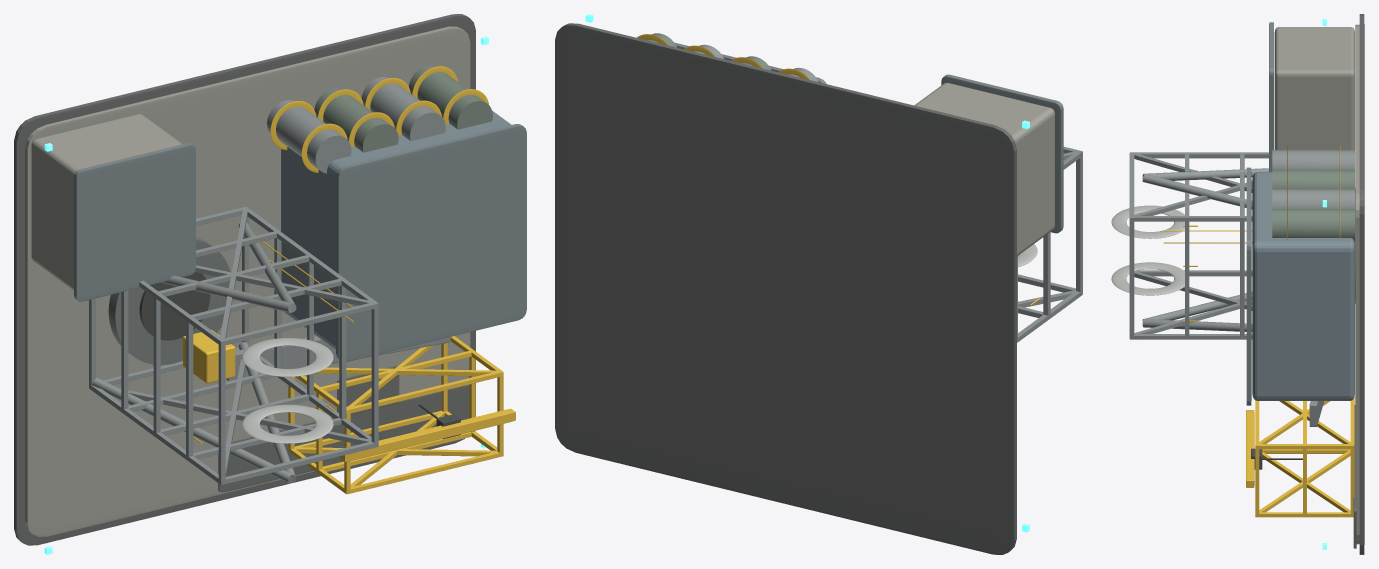
File: b-51-ore-mine-lod1.glb
The picture shows the model from 3 angles, left to right: view 1: azimuth 30°, elevation 25°; view 2: azimuth 150°, elevation 25°; view 3: azimuth 270°, elevation 25°; orthographic projection. The views are drawn at different scales.
Parts seen in each view (by area): view 1: foundation_inner_pad, ore_processing_hall_roof, ore_winding_house_roof, foundation, ore_winding_house_main_hall, ore_processing_hall_main_hall, ore_truck_lane_road, ore_shaft_collar, concentrate_bin_0_vessel, concentrate_bin_2_vessel, concentrate_bin_3_vessel, concentrate_bin_1_vessel (+40 smaller); view 2: foundation, ore_winding_house_main_hall, ore_winding_house_roof, primary_mine_headframe_beam_y_4_w, primary_mine_headframe_beam_y_3_w; view 3: ore_processing_hall_main_hall, ore_winding_house_main_hall, foundation, foundation_inner_pad, concentrate_bin_3_vessel, concentrate_bin_1_vessel, concentrate_bin_0_vessel, concentrate_bin_2_vessel, ore_processing_hall_roof, headframe_hoist_wheel_-1, headframe_hoist_wheel_1, headframe_splay_1_rear (+27 smaller).
Part boxes in pixels (box(x1,y1,x2,y2)): foundation_inner_pad: box(25, 26, 470, 536); ore_processing_hall_roof: box(336, 124, 526, 362); ore_winding_house_roof: box(74, 143, 195, 301); foundation: box(14, 14, 475, 545); ore_winding_house_main_hall: box(31, 114, 182, 290); ore_processing_hall_main_hall: box(281, 111, 511, 349); ore_truck_lane_road: box(218, 384, 469, 492); ore_shaft_collar: box(108, 237, 230, 365); concentrate_bin_0_vessel: box(267, 100, 351, 173); concentrate_bin_2_vessel: box(361, 77, 445, 140); concentrate_bin_3_vessel: box(409, 65, 492, 129); concentrate_bin_1_vessel: box(314, 88, 398, 152); foundation: box(555, 23, 1016, 554); ore_winding_house_main_hall: box(914, 83, 1054, 255); ore_winding_house_roof: box(941, 74, 1063, 233); primary_mine_headframe_beam_y_4_w: box(1076, 150, 1082, 292); primary_mine_headframe_beam_y_3_w: box(1043, 232, 1050, 315); ore_processing_hall_main_hall: box(1252, 172, 1354, 400); ore_winding_house_main_hall: box(1274, 27, 1354, 149); foundation: box(1359, 14, 1364, 554); foundation_inner_pad: box(1355, 24, 1359, 544); concentrate_bin_3_vessel: box(1272, 209, 1354, 241); concentrate_bin_1_vessel: box(1272, 169, 1354, 189); concentrate_bin_0_vessel: box(1272, 150, 1354, 169); concentrate_bin_2_vessel: box(1272, 189, 1354, 208); ore_processing_hall_roof: box(1246, 167, 1251, 405); headframe_hoist_wheel_-1: box(1111, 262, 1184, 295); headframe_hoist_wheel_1: box(1111, 205, 1184, 238); headframe_splay_1_rear: box(1142, 174, 1252, 209).
Size of what is drawn, in the model's own units: 18 by 16 by 10.1.
